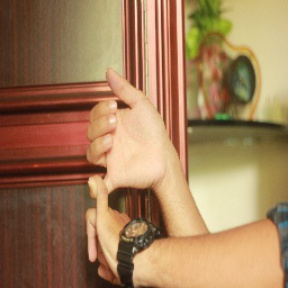S: (69, 62, 181, 279)
